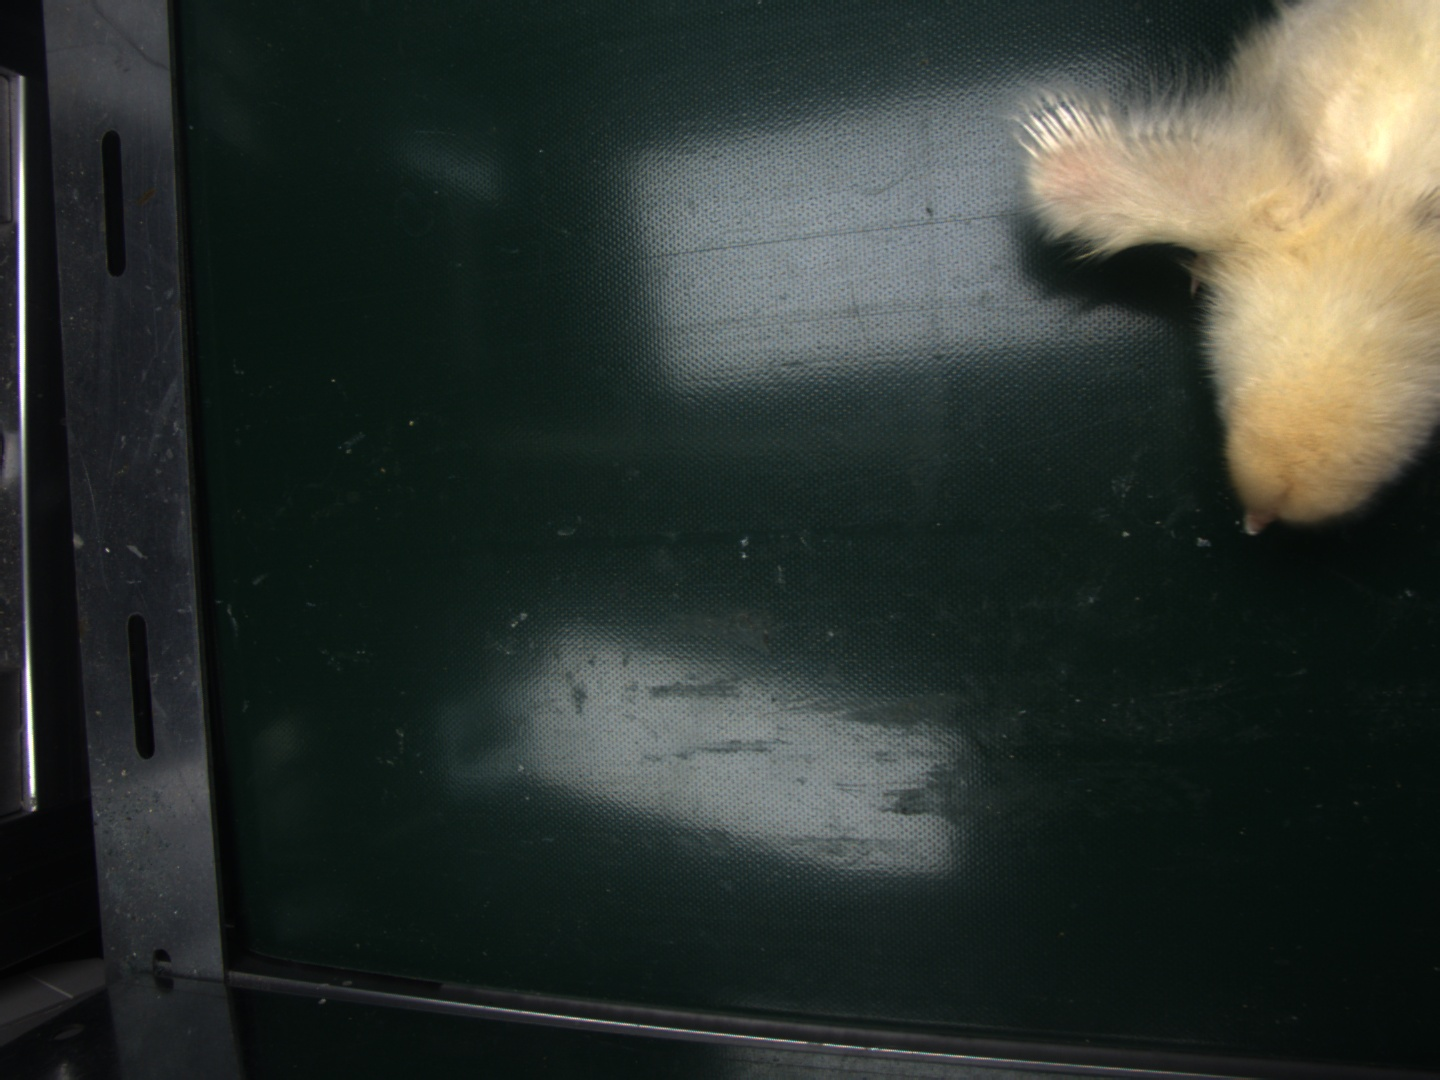male: (1023, 108, 1107, 162)
